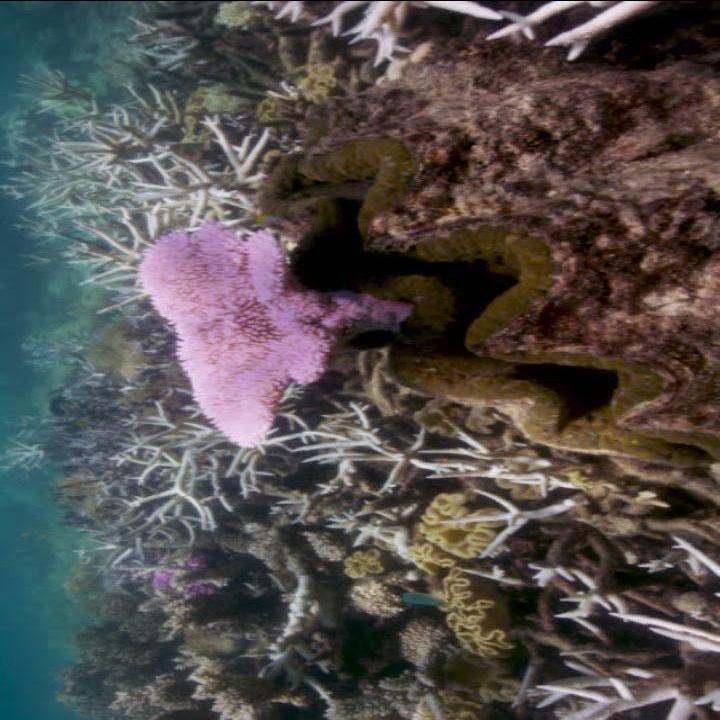Bleached disease: (526, 524, 720, 720), (315, 0, 662, 60)
Healthy Coral: (99, 140, 417, 457)
